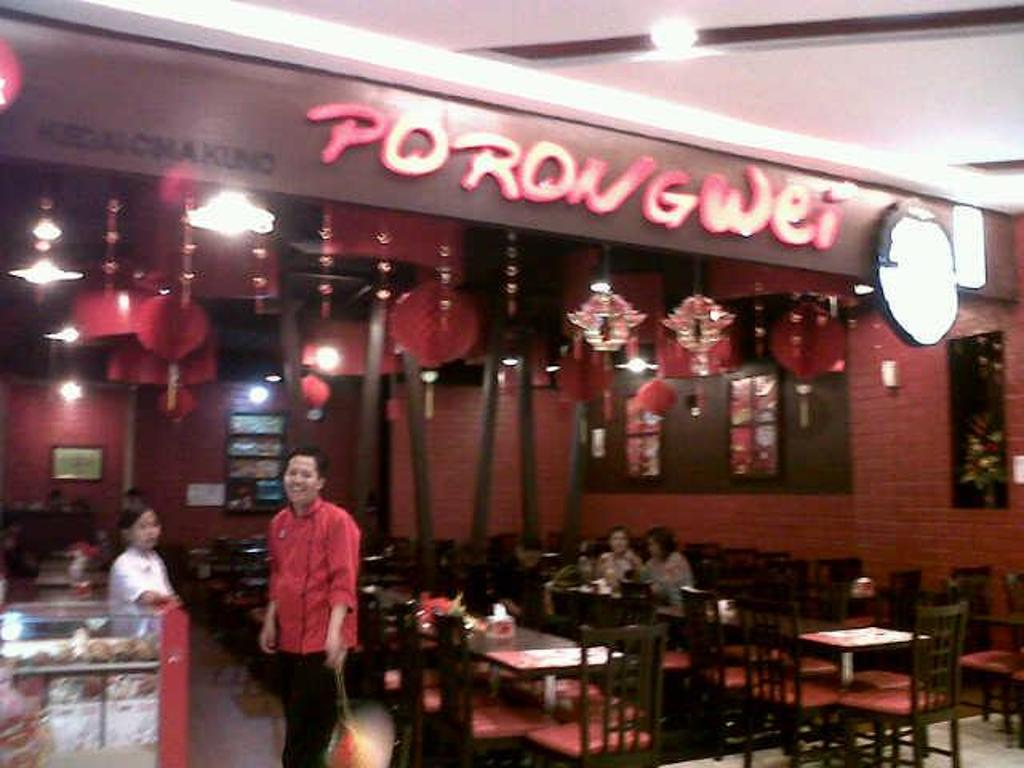face: (283, 460, 315, 502), (130, 516, 159, 548), (647, 539, 663, 558), (610, 533, 625, 552)
